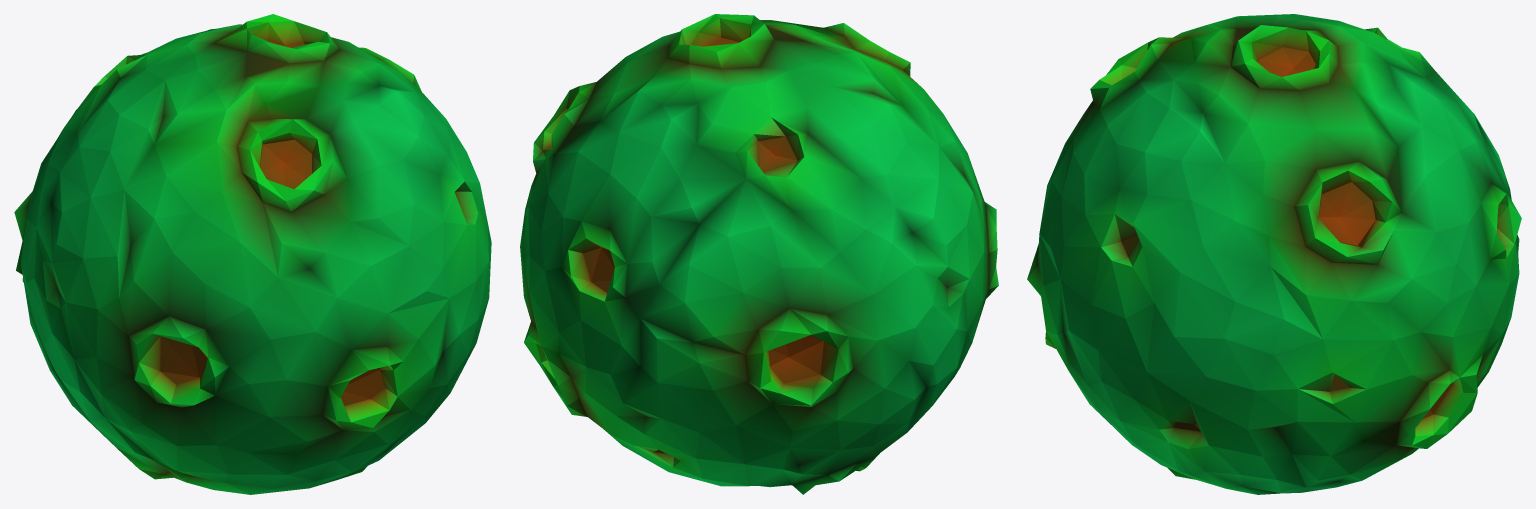
File: moon6.fbx
3 renders of one model, left to right at view 1: azimuth 30°, elevation 25°; view 2: azimuth 150°, elevation 25°; view 3: azimuth 270°, elevation 25°, orthographic. The views are drawn at different scales.
Parts seen in each view (by area): view 1: attribblur1; view 2: attribblur1; view 3: attribblur1.
Boxes of the visible parts, <box> form: attribblur1: <box>14,14,491,494</box>; attribblur1: <box>520,14,998,494</box>; attribblur1: <box>1027,14,1521,494</box>.
Bounding box in the file's own units: 0.8422 × 0.8616 × 0.8651.
